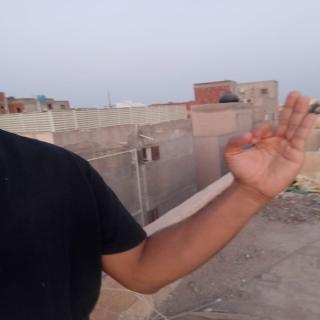Space: (221, 89, 320, 201)
